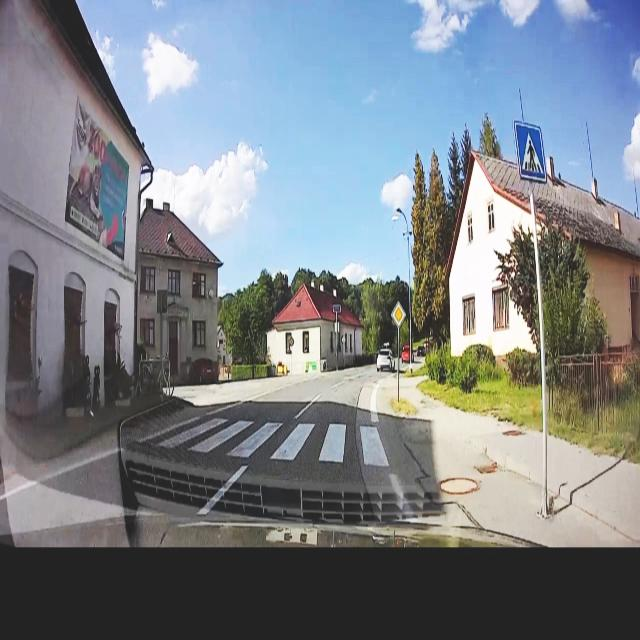Priority road: (390, 298, 407, 330)
